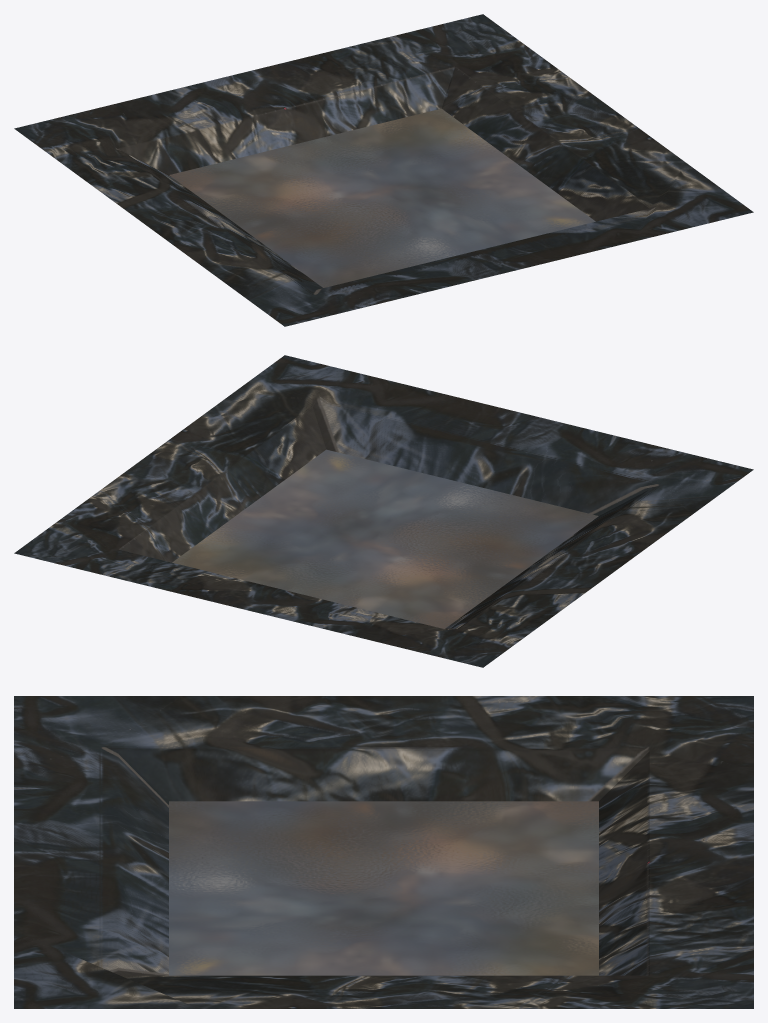
The model's file is bassin-retention1-2.fbx.
3 views of the same model, one above another, from view 1: azimuth 30°, elevation 25°; view 2: azimuth 150°, elevation 25°; view 3: azimuth 270°, elevation 25° (orthographic). The views are drawn at different scales.
Visible parts, largest first — view 1: bassin-retention1, Plane; view 2: bassin-retention1, Plane; view 3: bassin-retention1, Plane.
Boxes of the visible parts, box(x1,y1,x2,y2) form: bassin-retention1: box(14, 14, 753, 326); Plane: box(169, 108, 595, 287); bassin-retention1: box(14, 355, 753, 667); Plane: box(172, 449, 598, 628); bassin-retention1: box(14, 696, 753, 1008); Plane: box(169, 801, 598, 975).
Size of the model in its own units: 200 by 29.94 by 200.
Materials: 2 (2 with a texture image).
